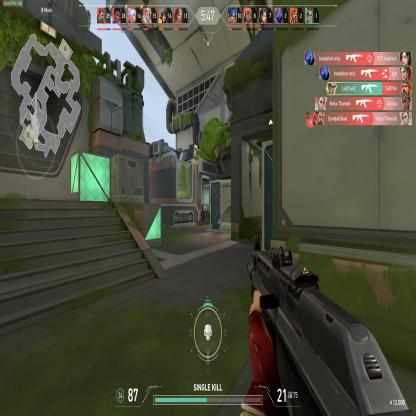enemy: (200, 201, 204, 221)
